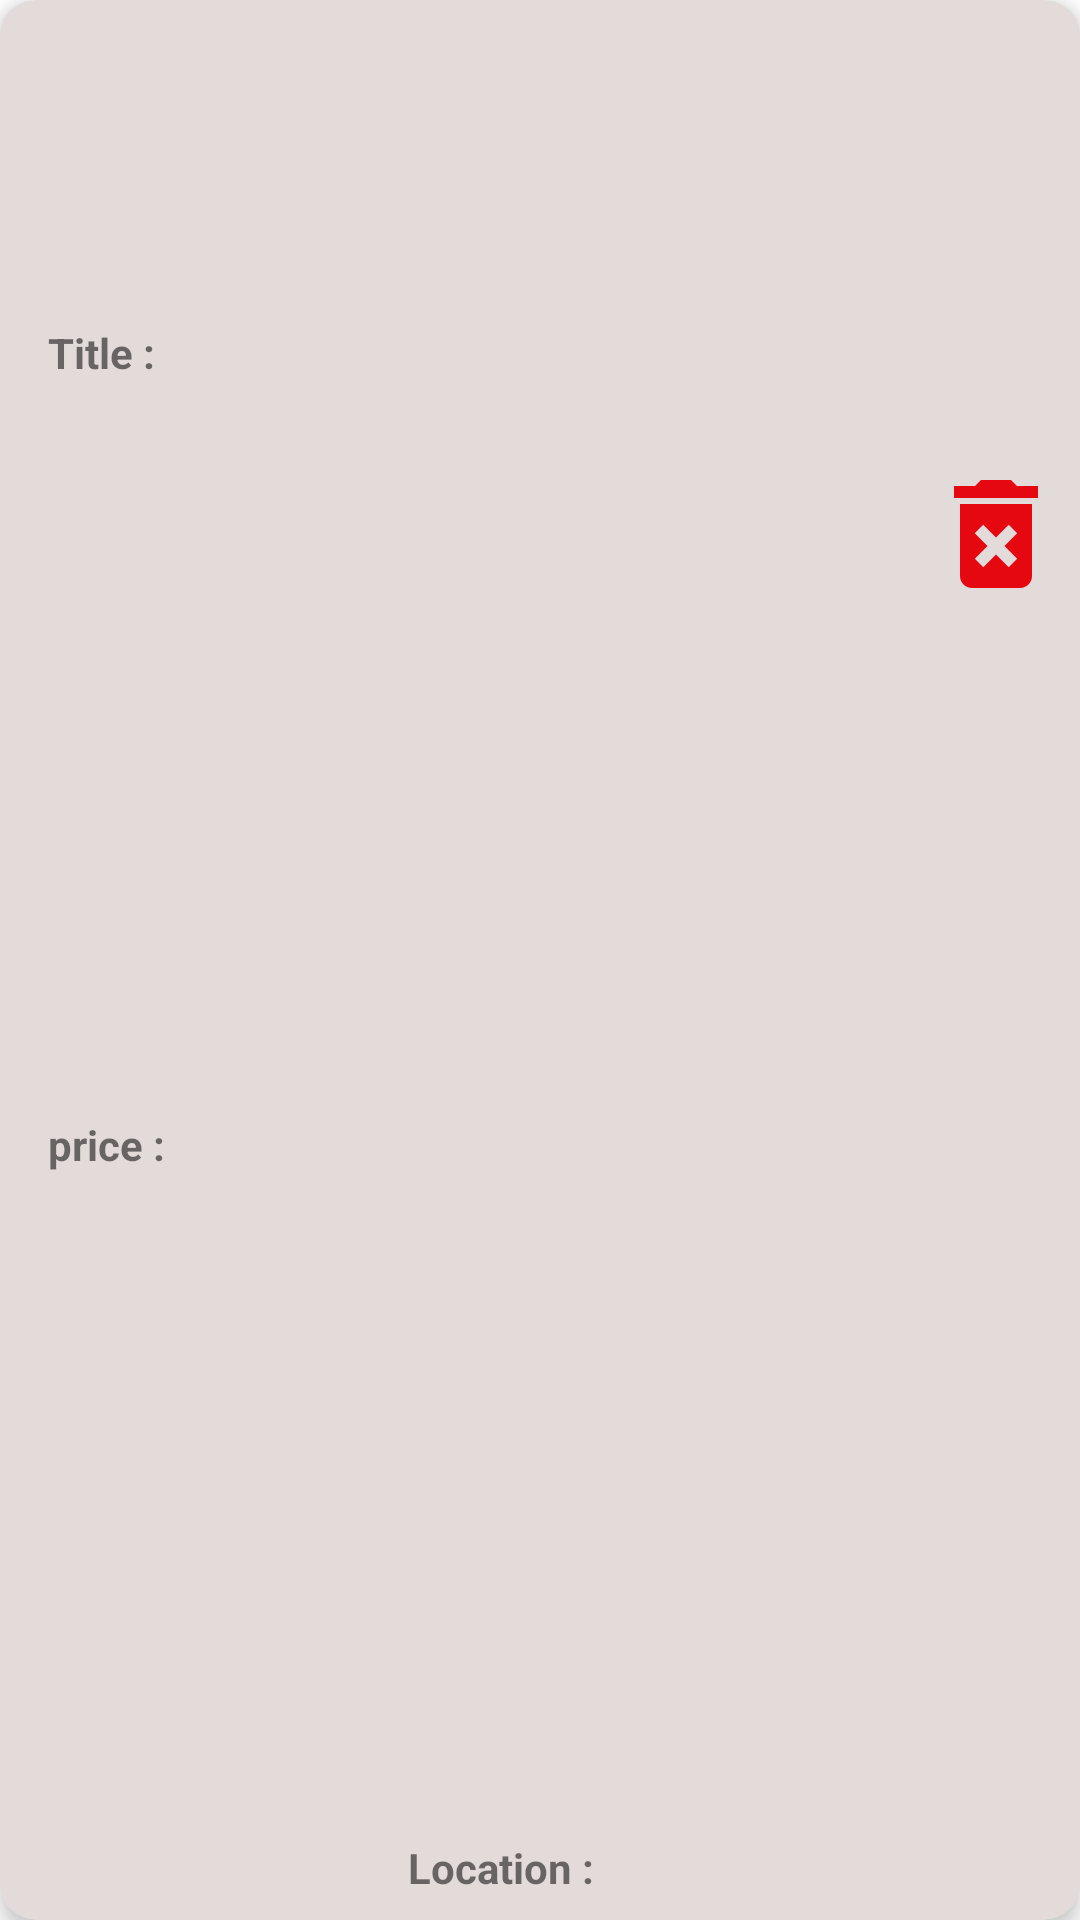

Named icons in this screenshot (1080 × 1920) and their bounding boxes, (left=x1, top=y1, right=x2, bottom=y2):
delete: (left=954, top=480, right=1038, bottom=588)
